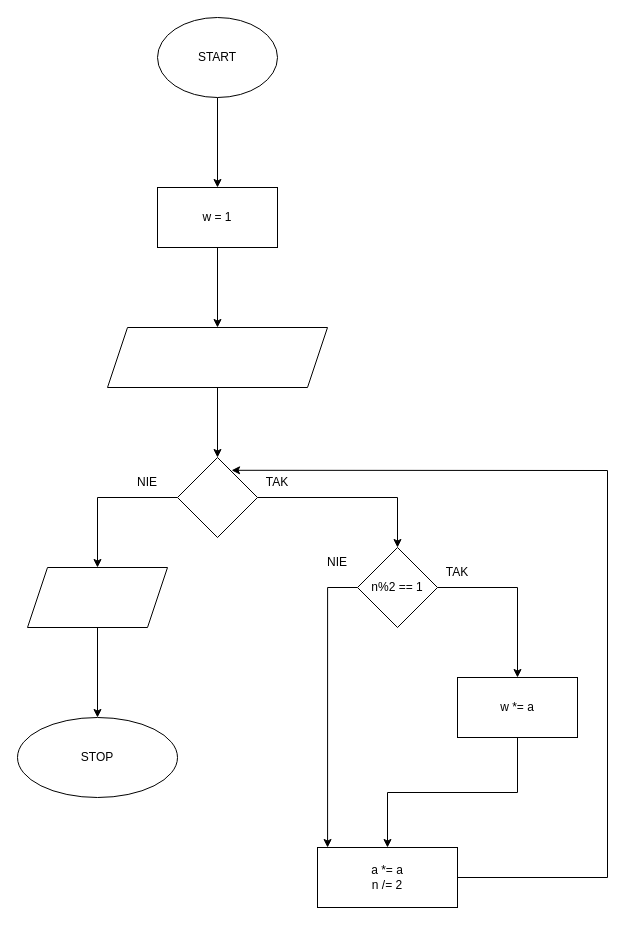
Some shapes in this 633 by 925 pixel diagram are drawn without their labels. Here are the shapes that lost their labels. From the top down, the centre of each, then its label:
At (217,357): "Wprowadź a (liczbę potęgowaną), n (wykładnik)".
At (217,497): "n>0".
At (97,597): "Wyprowadź w (wynik)".
